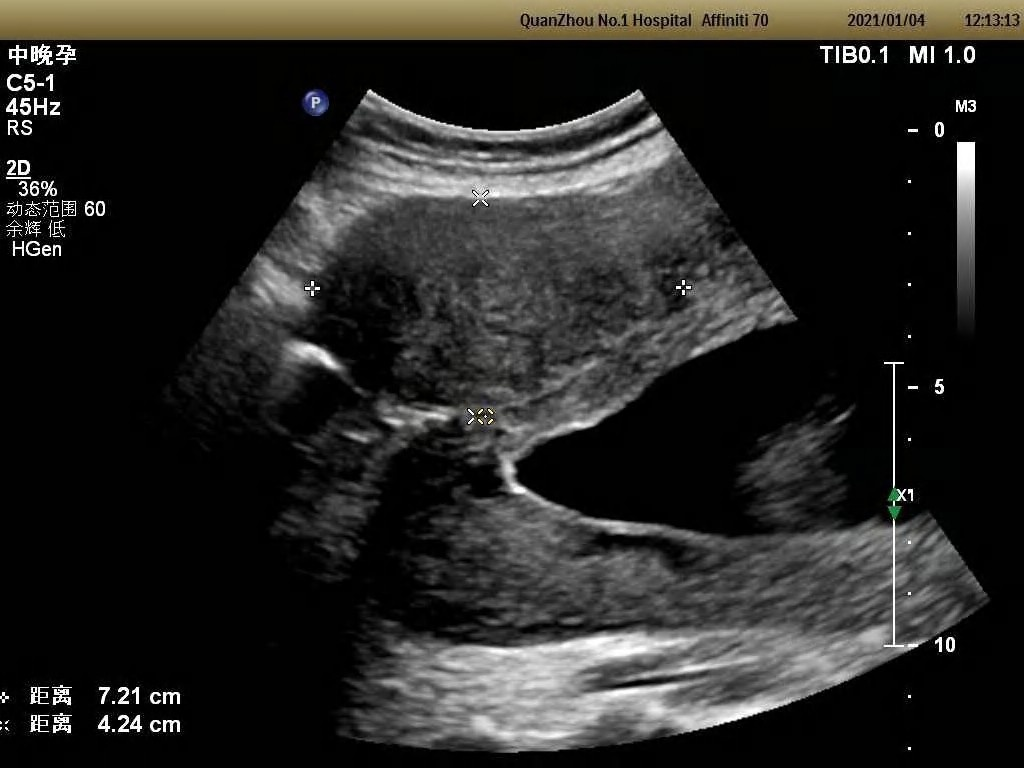肌瘤: (328, 205, 603, 390)
